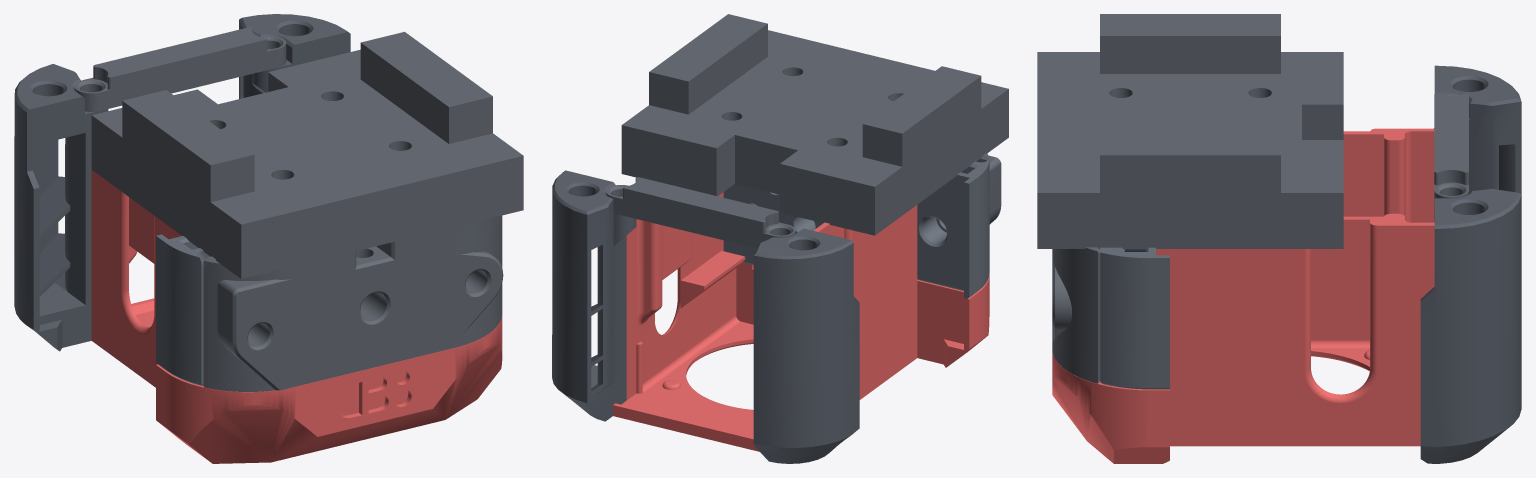
3 renders of one model, left to right at view 1: azimuth 30°, elevation 25°; view 2: azimuth 150°, elevation 25°; view 3: azimuth 270°, elevation 25°, orthographic. The views are drawn at different scales.
Parts seen in each view (by area): view 1: db_mgn12h_carriage, db_orbiter_mount, db_cowl, db_duct_left, db_brace, db_dragon_mount, db_duct_right; view 2: db_mgn12h_carriage, db_cowl, db_duct_left, db_duct_right, db_dragon_mount, db_brace, db_orbiter_mount; view 3: db_cowl, db_mgn12h_carriage, db_duct_right, db_dragon_mount, db_duct_left, db_orbiter_mount, db_brace.
Part boxes in pixels (left/top/right/bottom): db_mgn12h_carriage: left=91, top=31, right=523, bottom=278; db_orbiter_mount: left=203, top=215, right=503, bottom=391; db_cowl: left=91, top=170, right=502, bottom=463; db_duct_left: left=14, top=64, right=108, bottom=351; db_brace: left=74, top=27, right=286, bottom=111; db_dragon_mount: left=156, top=234, right=210, bottom=385; db_duct_right: left=239, top=14, right=350, bottom=98; db_mgn12h_carriage: left=621, top=14, right=1008, bottom=235; db_cowl: left=613, top=192, right=989, bottom=451; db_duct_left: left=753, top=228, right=859, bottom=463; db_duct_right: left=552, top=170, right=636, bottom=421; db_dragon_mount: left=723, top=159, right=989, bottom=298; db_brace: left=606, top=177, right=795, bottom=248; db_orbiter_mount: left=976, top=153, right=1001, bottom=224; db_cowl: left=1052, top=128, right=1434, bottom=463; db_mgn12h_carriage: left=1037, top=14, right=1343, bottom=248; db_duct_right: left=1420, top=189, right=1521, bottom=463; db_dragon_mount: left=1100, top=247, right=1169, bottom=389; db_duct_left: left=1434, top=65, right=1521, bottom=194; db_orbiter_mount: left=1052, top=247, right=1100, bottom=383; db_brace: left=1434, top=93, right=1468, bottom=209.
Size of the model in its own units: 0.055 by 0.0496 by 0.0695.
